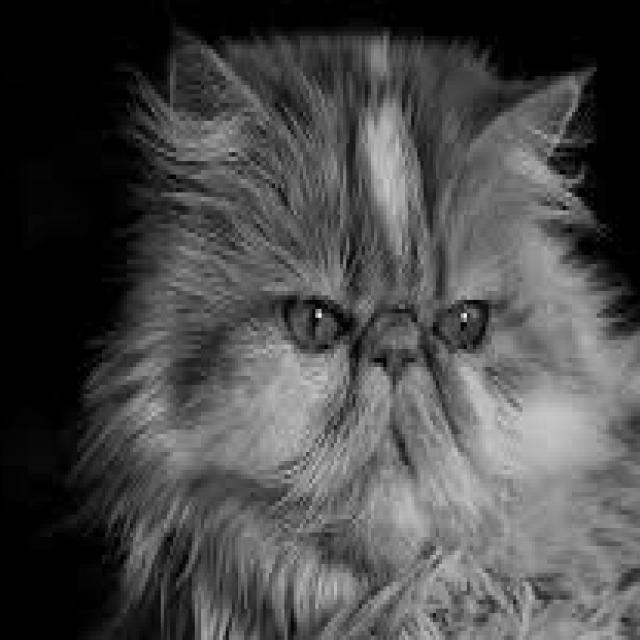iran: (201, 178, 605, 532)
